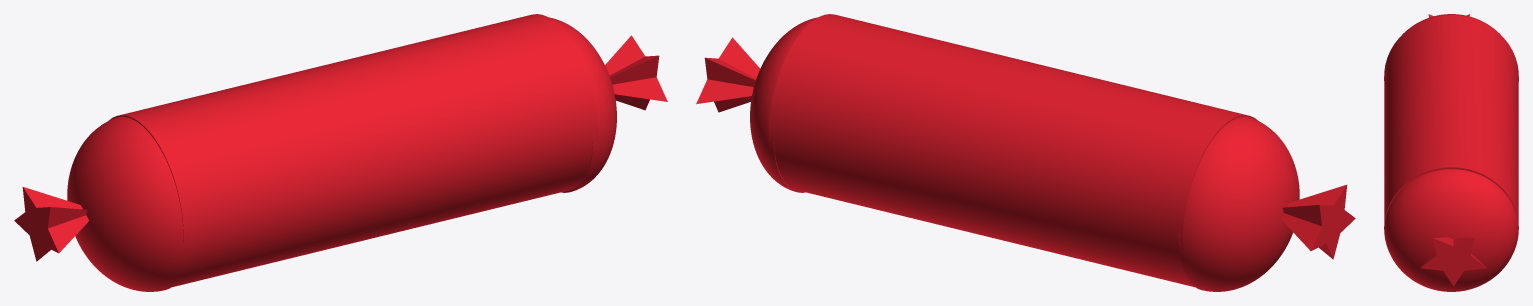
File: RV65TCQCE.dae
The picture shows the model from 3 angles, left to right: view 1: azimuth 30°, elevation 25°; view 2: azimuth 150°, elevation 25°; view 3: azimuth 270°, elevation 25°; orthographic projection. The views are drawn at different scales.
Parts seen in each view (by area): view 1: _RV65TCQCE_PART110002393_0, _RV65TCQCE_PART210002394_0, _RV65TCQCE_PART410002396_0, _RV65TCQCE_PART310002395_0, _RV65TCQCE_PART510002397_0; view 2: _RV65TCQCE_PART110002393_0, _RV65TCQCE_PART210002394_0, _RV65TCQCE_PART410002396_0, _RV65TCQCE_PART310002395_0, _RV65TCQCE_PART510002397_0; view 3: _RV65TCQCE_PART110002393_0, _RV65TCQCE_PART310002395_0, _RV65TCQCE_PART510002397_0, _RV65TCQCE_PART210002394_0.
Boxes of the visible parts, x1=… form: _RV65TCQCE_PART110002393_0: x1=109, y1=14, x2=598, y2=287; _RV65TCQCE_PART210002394_0: x1=67, y1=116, x2=188, y2=291; _RV65TCQCE_PART410002396_0: x1=14, y1=187, x2=88, y2=261; _RV65TCQCE_PART310002395_0: x1=549, y1=17, x2=616, y2=192; _RV65TCQCE_PART510002397_0: x1=605, y1=35, x2=667, y2=110; _RV65TCQCE_PART110002393_0: x1=768, y1=14, x2=1257, y2=287; _RV65TCQCE_PART210002394_0: x1=1178, y1=116, x2=1299, y2=291; _RV65TCQCE_PART410002396_0: x1=1281, y1=184, x2=1355, y2=259; _RV65TCQCE_PART310002395_0: x1=750, y1=17, x2=817, y2=192; _RV65TCQCE_PART510002397_0: x1=696, y1=37, x2=759, y2=112; _RV65TCQCE_PART110002393_0: x1=1384, y1=15, x2=1518, y2=233; _RV65TCQCE_PART310002395_0: x1=1384, y1=169, x2=1518, y2=291; _RV65TCQCE_PART510002397_0: x1=1420, y1=237, x2=1486, y2=286; _RV65TCQCE_PART210002394_0: x1=1384, y1=14, x2=1518, y2=80.
Bounding box in the file's own units: 118 × 30.39 × 30.
